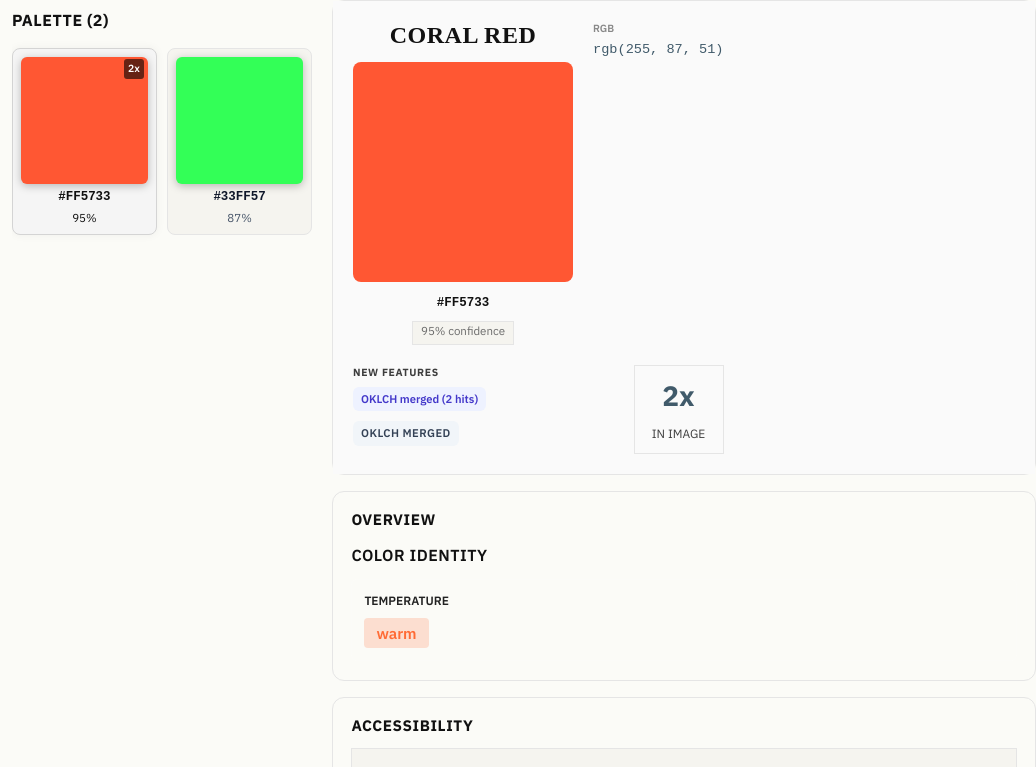
Test: ColorTokenDisplay › switches color on palette swatch click
The image size is (1036, 767).
Step 1. Click the element showing "#33FF57 87%" → point(240, 141), box [167,48,312,235]
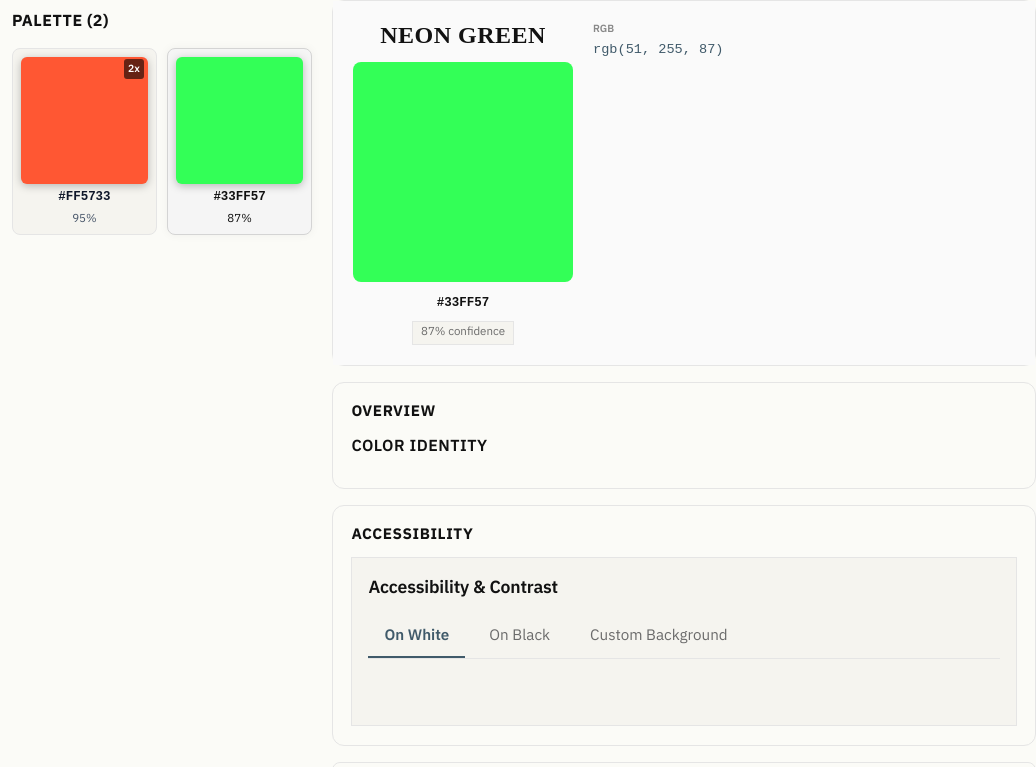
Expected: the heading "Neon Green" is shown, [380,21,546,50]
